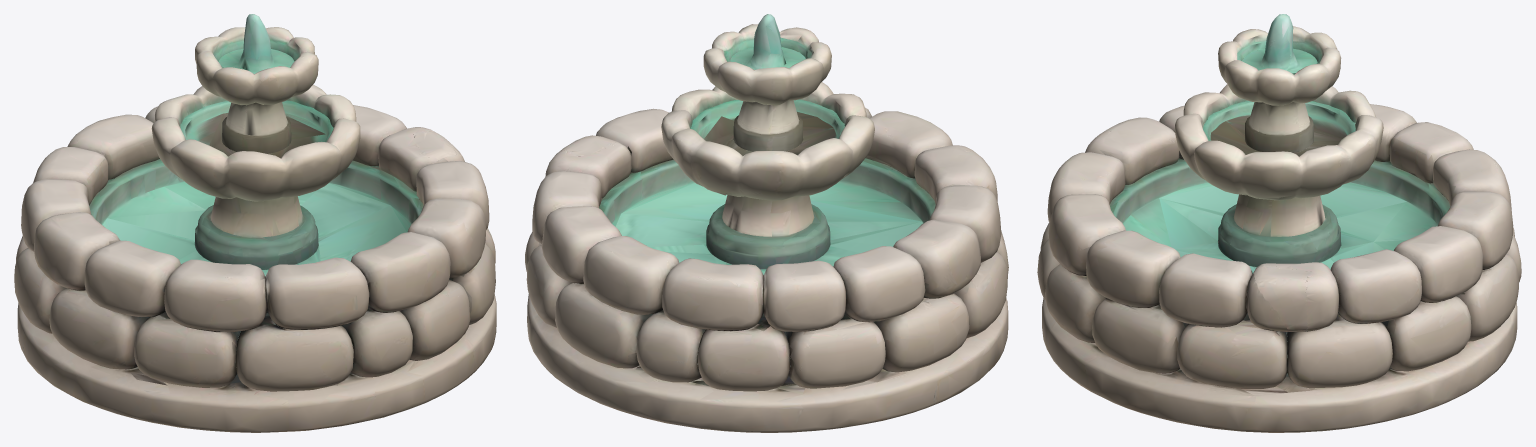
The model's file is F09-wish-fountain.glb.
The picture shows the model from 3 angles, left to right: view 1: azimuth 30°, elevation 25°; view 2: azimuth 150°, elevation 25°; view 3: azimuth 270°, elevation 25°; orthographic projection.
Parts seen in each view (by area): view 1: F09-wish-fountain; view 2: F09-wish-fountain; view 3: F09-wish-fountain.
Part boxes in pixels (<box>): F09-wish-fountain: <box>14,14,496,432</box>; F09-wish-fountain: <box>525,14,1008,432</box>; F09-wish-fountain: <box>1037,14,1521,432</box>.
Bounding box in the file's own units: 3.03 × 2.2 × 3.04.
Materials: 1 (1 with a texture image).
